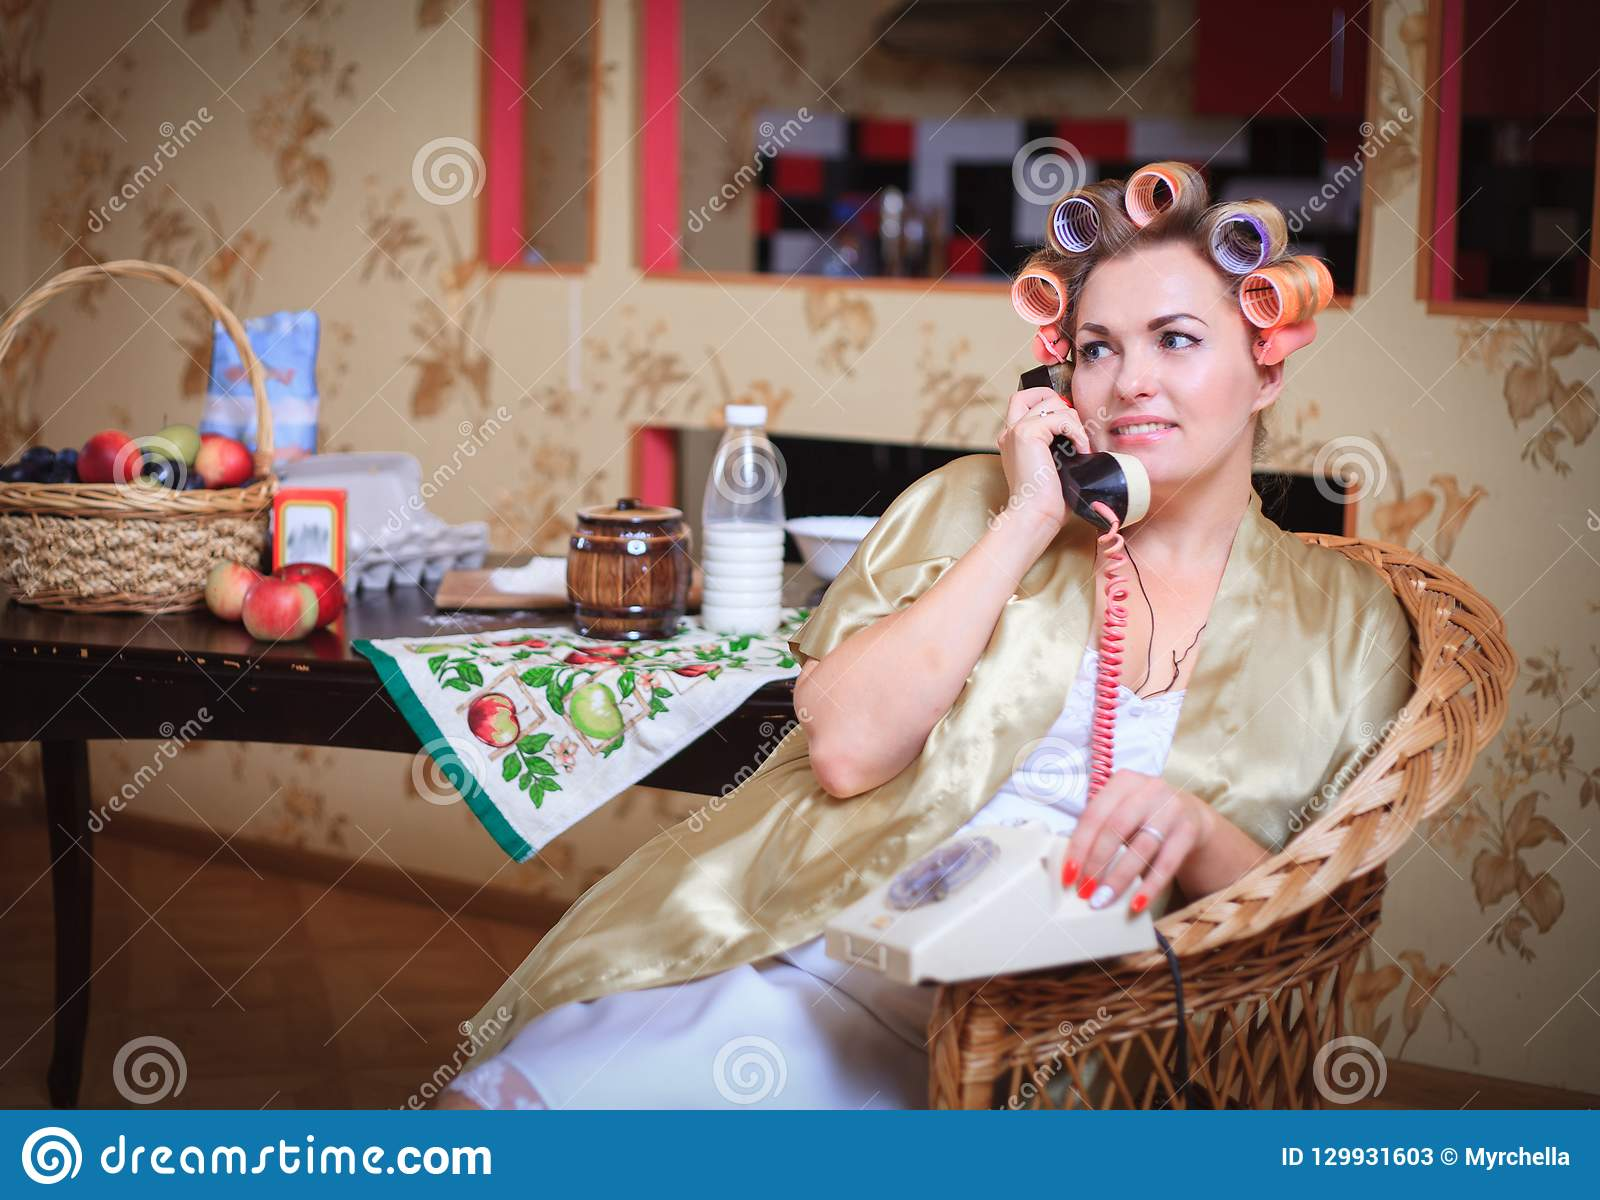phone: (1020, 352, 1111, 522)
talk: (993, 306, 1220, 533)
